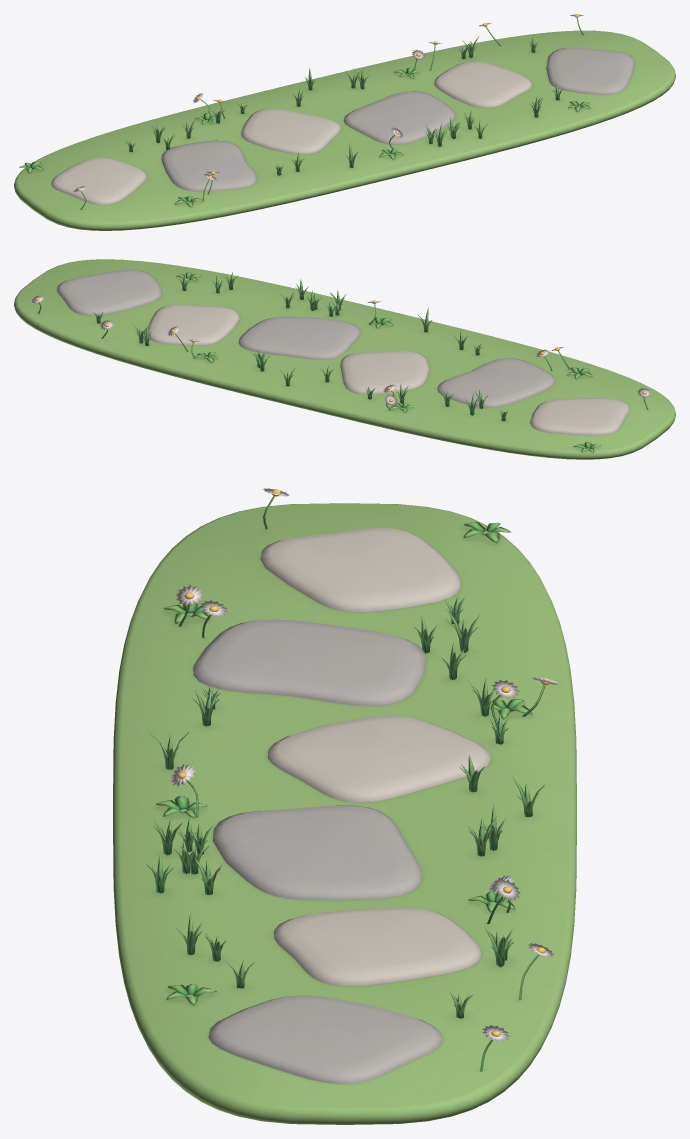
The model's file is piedras_pasaderas.glb.
3 views of the same model, one above another, from view 1: azimuth 30°, elevation 25°; view 2: azimuth 150°, elevation 25°; view 3: azimuth 270°, elevation 25° (orthographic). The views are drawn at different scales.
Visible parts, largest first — view 1: stepping-stones_body; view 2: stepping-stones_body; view 3: stepping-stones_body.
Part boxes in pixels (x1,y1,x2,y2): stepping-stones_body: [14, 14, 675, 230]; stepping-stones_body: [14, 259, 675, 459]; stepping-stones_body: [113, 488, 576, 1124].
Bounding box in the file's own units: 2.24 × 0.1159 × 0.72.
1 material, 1 textured.
